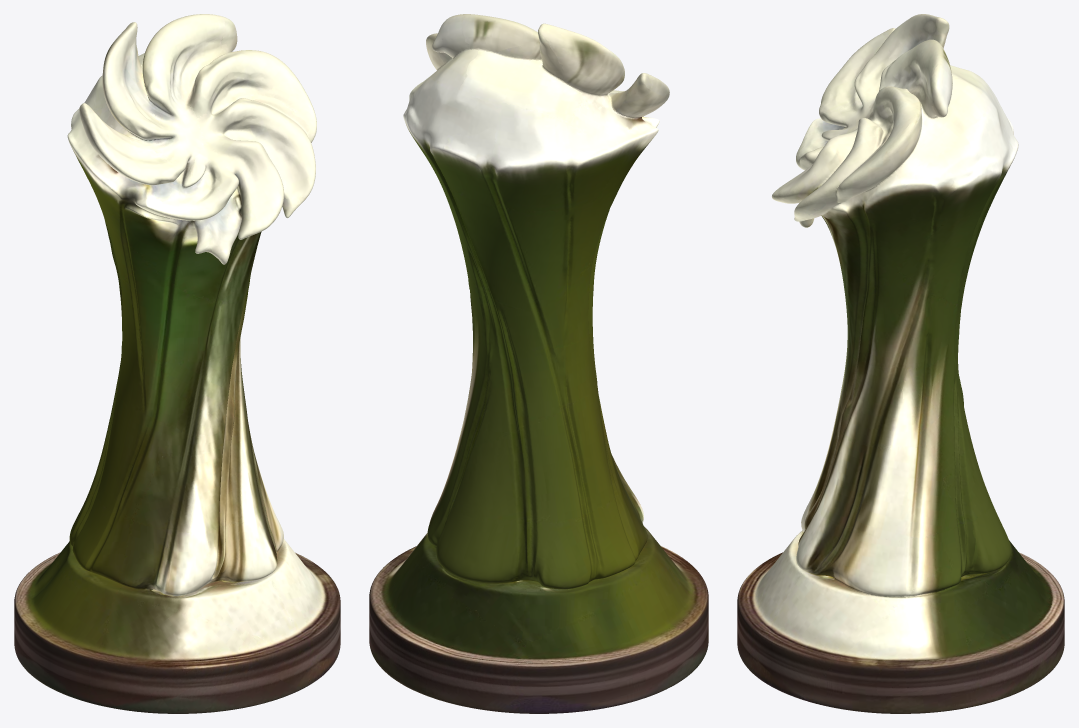
Rendered from georgie.glb.
3 views of the same model, side by side, from view 1: azimuth 30°, elevation 25°; view 2: azimuth 150°, elevation 25°; view 3: azimuth 270°, elevation 25° (orthographic). The views are drawn at different scales.
Parts seen in each view (by area): view 1: mesh_node; view 2: mesh_node; view 3: mesh_node.
Boxes of the visible parts, box(x1,y1,x2,y2) form: mesh_node: box(14, 14, 340, 713); mesh_node: box(369, 14, 708, 713); mesh_node: box(737, 14, 1064, 713).
Bounding box in the file's own units: 0.9136 × 1.9 × 0.9136.
Materials: 1 (1 with a texture image).
